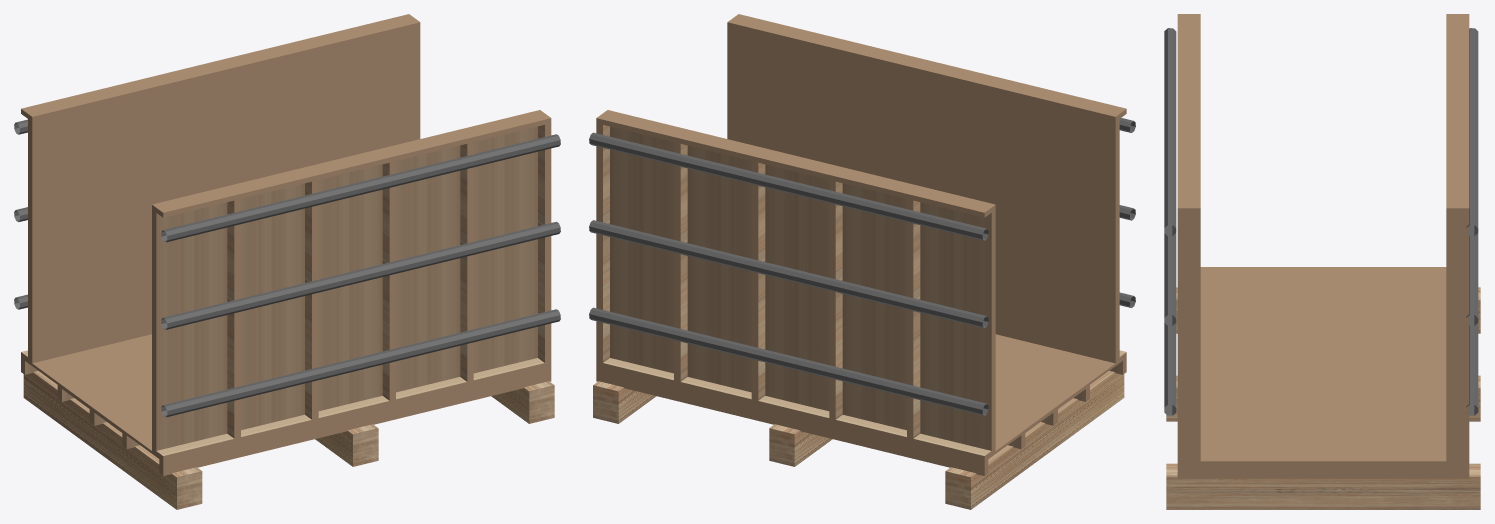
The model's file is PCa_colmn_concrete_formwork_1.glb.
The picture shows the model from 3 angles, left to right: view 1: azimuth 30°, elevation 25°; view 2: azimuth 150°, elevation 25°; view 3: azimuth 270°, elevation 25°; orthographic projection. The views are drawn at different scales.
Visible parts, largest first — view 1: Plane.006; view 2: Plane.006; view 3: Plane.006.
Part boxes in pixels (x1,y1,x2,y2): Plane.006: [14, 14, 560, 509]; Plane.006: [589, 14, 1135, 509]; Plane.006: [1164, 14, 1480, 509].
Size of the model in its own units: 1.65 by 1.18 by 1.12.
2 materials, 1 textured.
